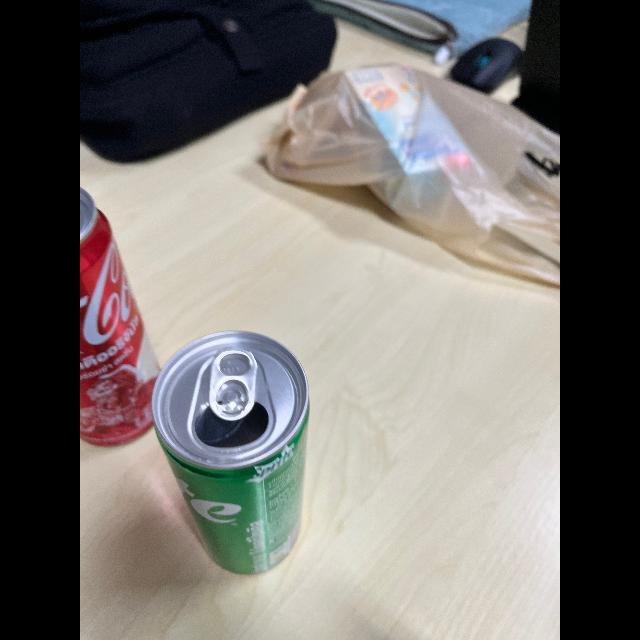can: (140, 326, 336, 590), (80, 181, 190, 439)
